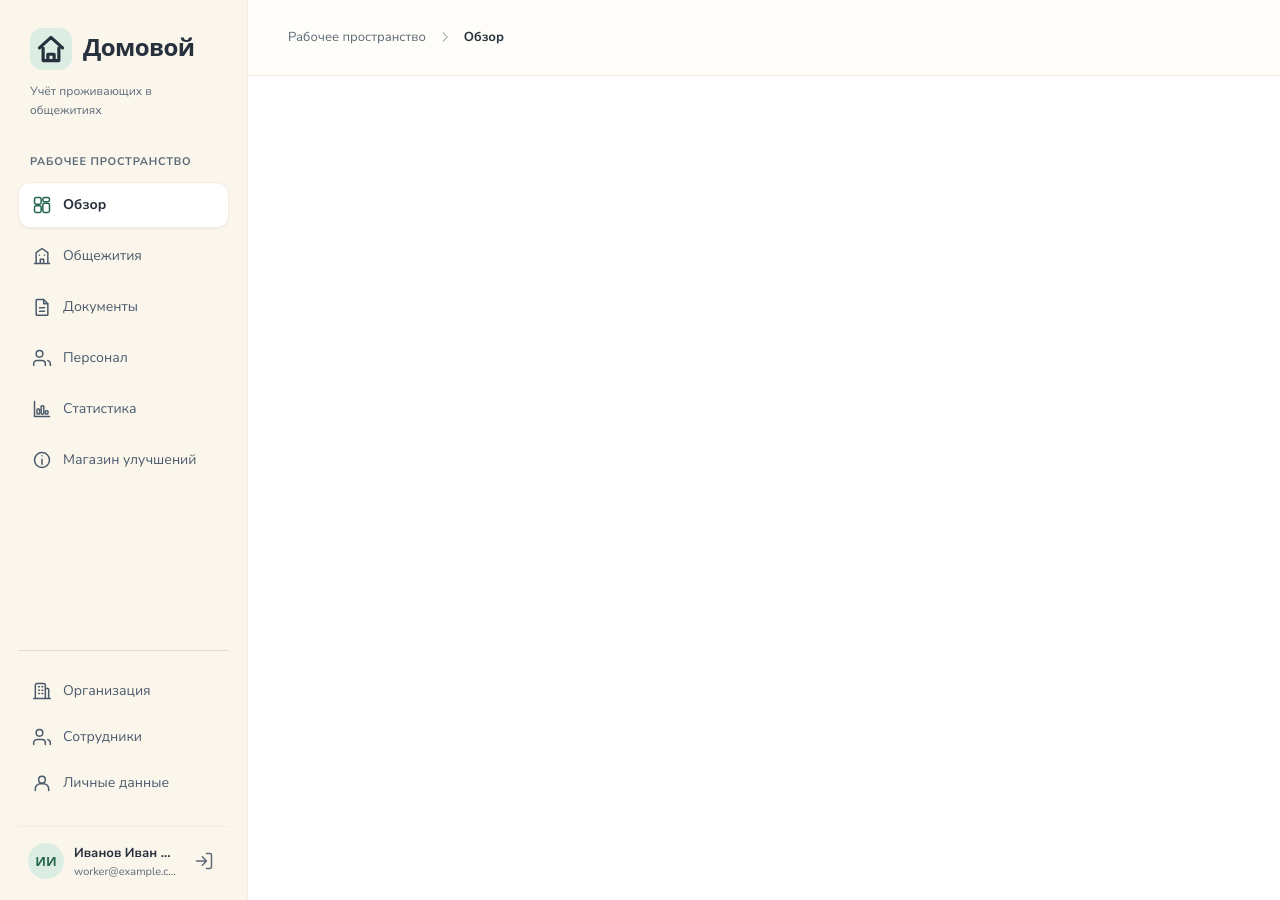
пункты меню учётной записи › ставит «Сотрудников» рядом с «Организацией» и ведёт на свой адрес
The width and height of the screenshot is (1280, 900).
Click the link with test id "workspace-nav-members": (87, 737) [32,727,142,747]
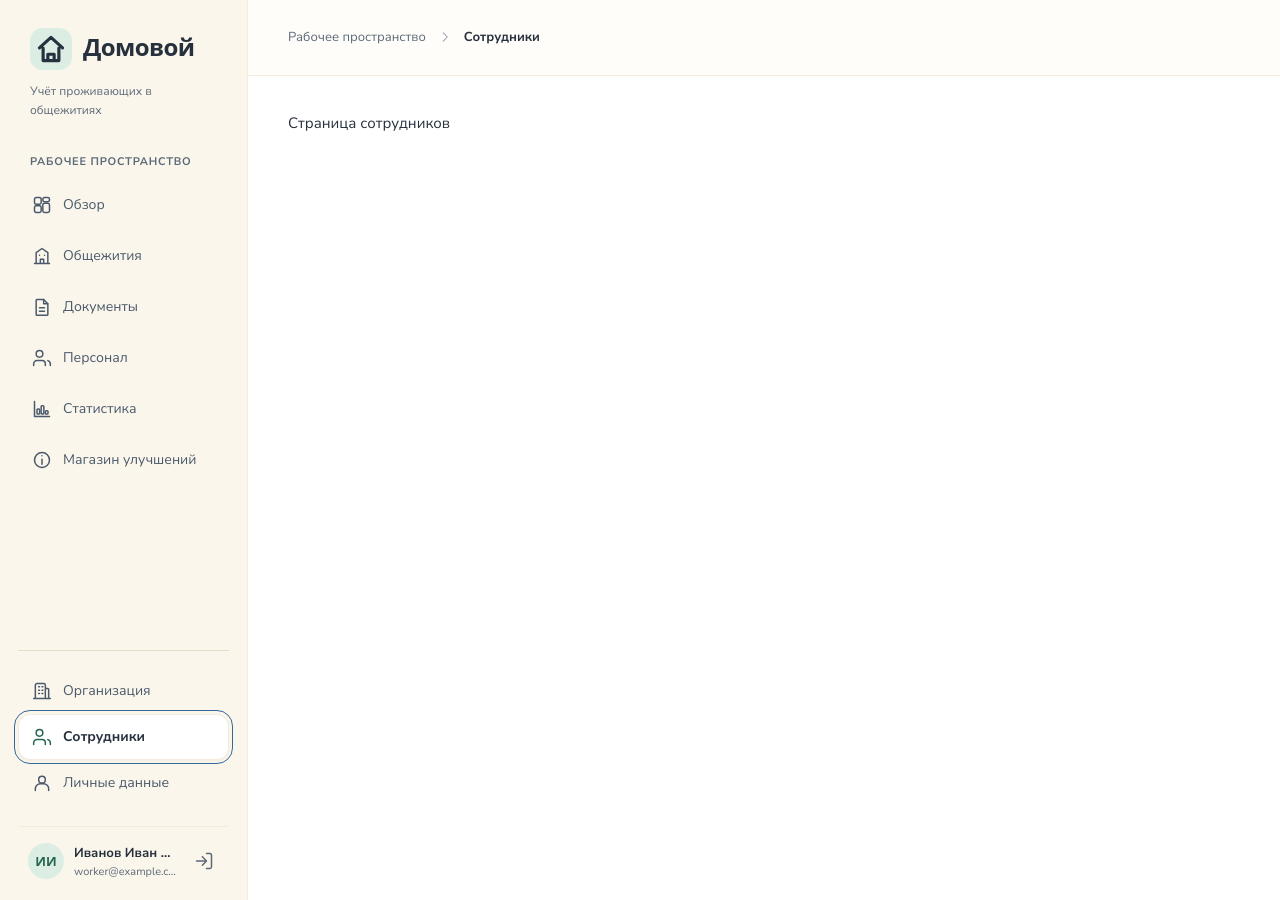
Now the text "Страница сотрудников" is shown, box [288,113,450,133]
